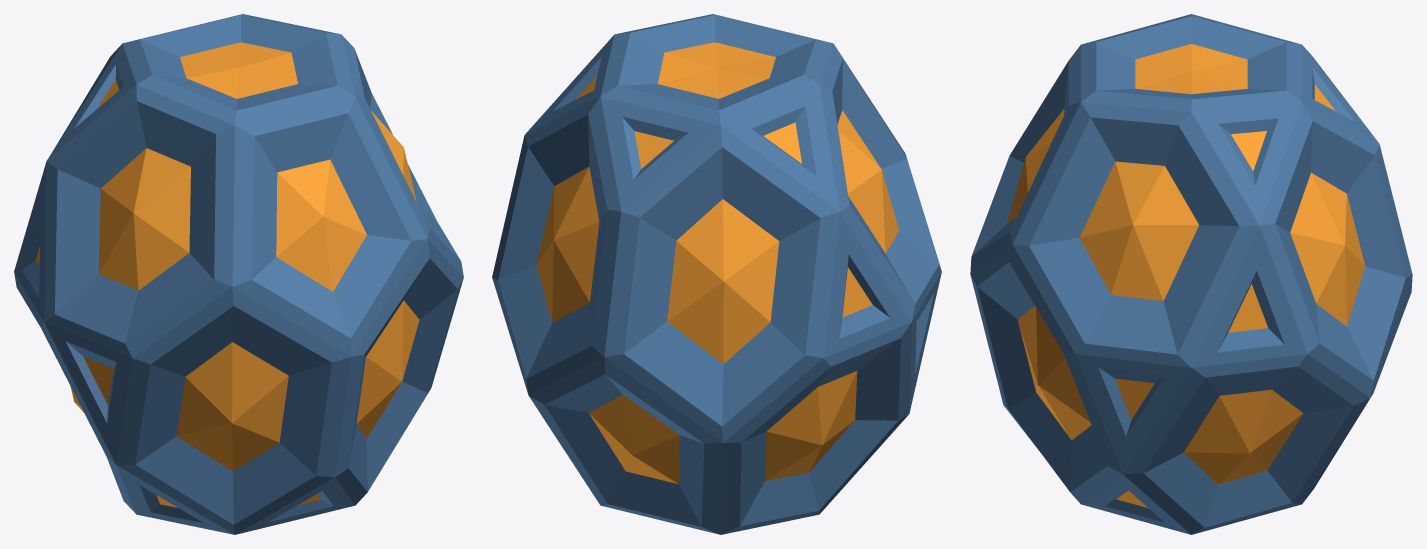
The model's file is AW_Plant04.fbx.
The picture shows the model from 3 angles, left to right: view 1: azimuth 30°, elevation 25°; view 2: azimuth 150°, elevation 25°; view 3: azimuth 270°, elevation 25°; orthographic projection.
Parts seen in each view (by area): view 1: AW_Plant04; view 2: AW_Plant04; view 3: AW_Plant04.
Boxes of the visible parts, x1,y1,x2,y2 form: AW_Plant04: (14,14,463,534); AW_Plant04: (492,14,941,534); AW_Plant04: (970,14,1412,534).
Bounding box in the file's own units: 61.75 × 66.8 × 61.76.
1 material, 1 textured.
